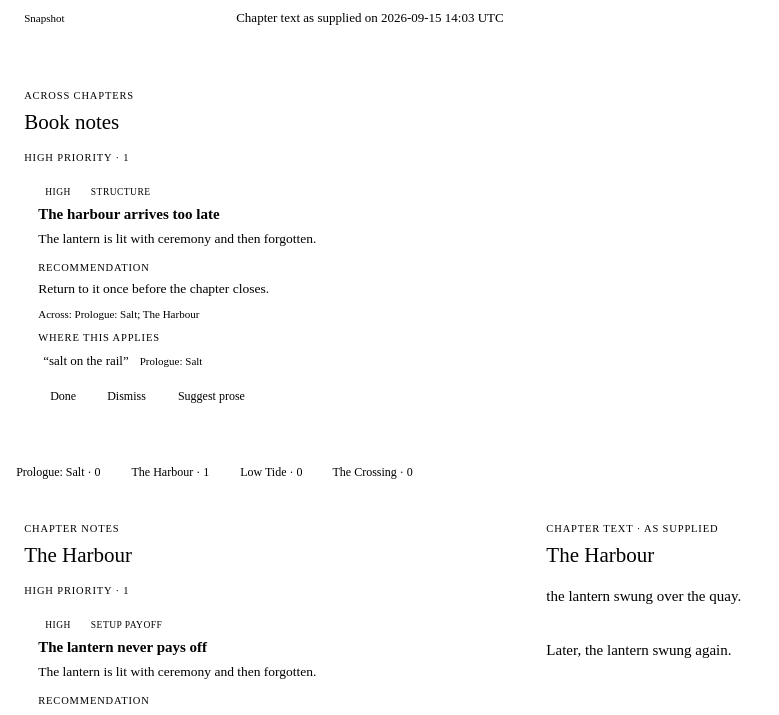
Test case: NotesScreen · results › scrolls the text pane to a located anchor, switching chapter if needed
The width and height of the screenshot is (779, 715).
(page scrolled)
Click the button "“salt on the rail”" at (86, 361), box left=38, top=350, right=134, bottom=371
(page scrolled)
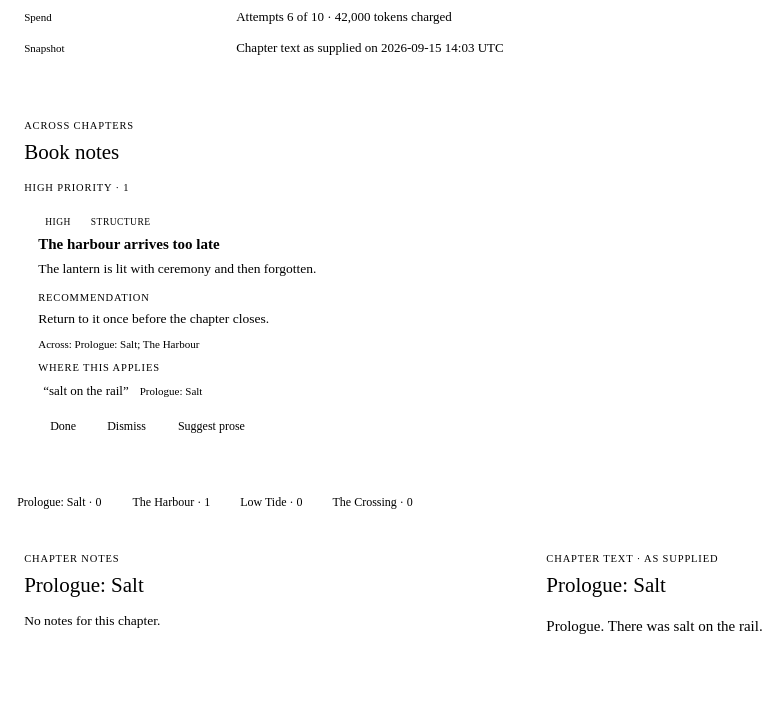
Expected: the text "salt on the rail" is shown, left=674, top=618, right=759, bottom=634
